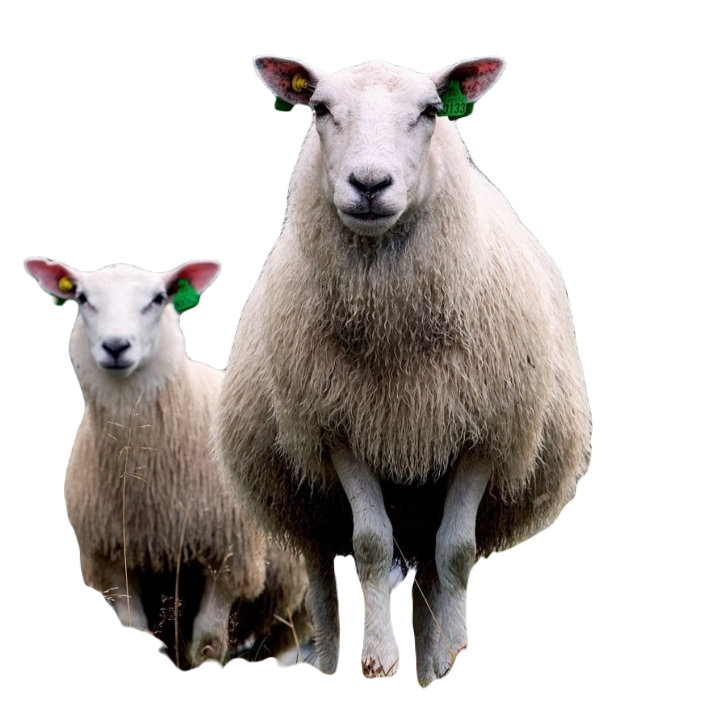Sheep: (239, 49, 595, 690), (14, 244, 235, 671)
